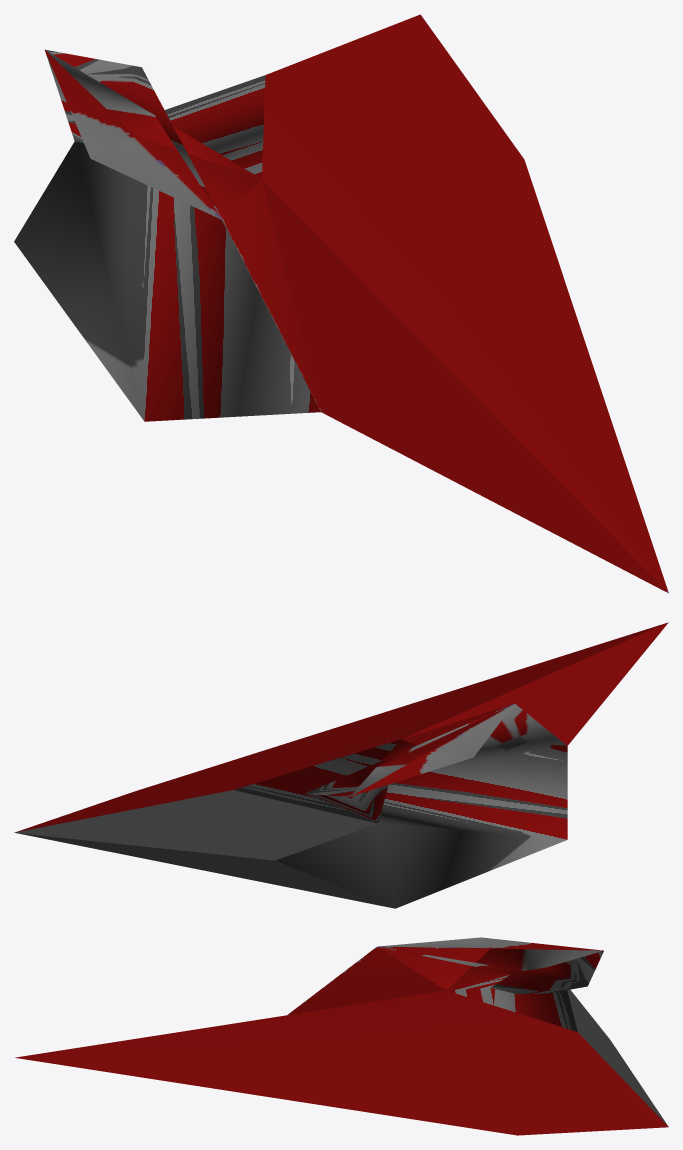
The model's file is enemyFighterBreak03.obj.
3 views of the same model, one above another, from view 1: azimuth 30°, elevation 25°; view 2: azimuth 150°, elevation 25°; view 3: azimuth 270°, elevation 25° (orthographic). The views are drawn at different scales.
Parts seen in each view (by area): view 1: Cube.001; view 2: Cube.001; view 3: Cube.001.
Boxes of the visible parts, <box> form: Cube.001: <box>14,14,668,593</box>; Cube.001: <box>14,622,668,908</box>; Cube.001: <box>15,937,668,1135</box>.
Bounding box in the file's own units: 1.68 × 0.5602 × 3.24.
Materials: 1 (1 with a texture image).
